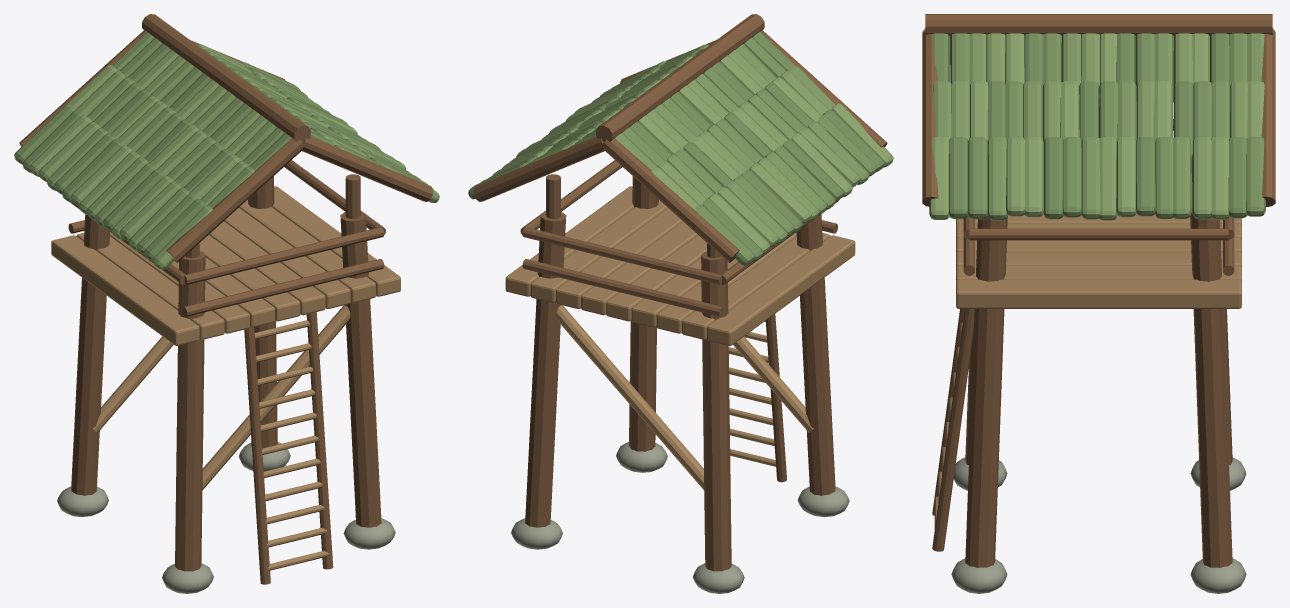
Rendered from CC_Watchtower.fbx.
3 views of the same model, side by side, from view 1: azimuth 30°, elevation 25°; view 2: azimuth 150°, elevation 25°; view 3: azimuth 270°, elevation 25° (orthographic). The views are drawn at different scales.
Visible parts, largest first — view 1: CC_Watchtower_StoryMesh; view 2: CC_Watchtower_StoryMesh; view 3: CC_Watchtower_StoryMesh.
Part boxes in pixels (x1,y1,x2,y2): CC_Watchtower_StoryMesh: (14, 14, 439, 593); CC_Watchtower_StoryMesh: (468, 14, 893, 593); CC_Watchtower_StoryMesh: (922, 14, 1275, 593).
Bounding box in the file's own units: 343 × 536 × 327.
